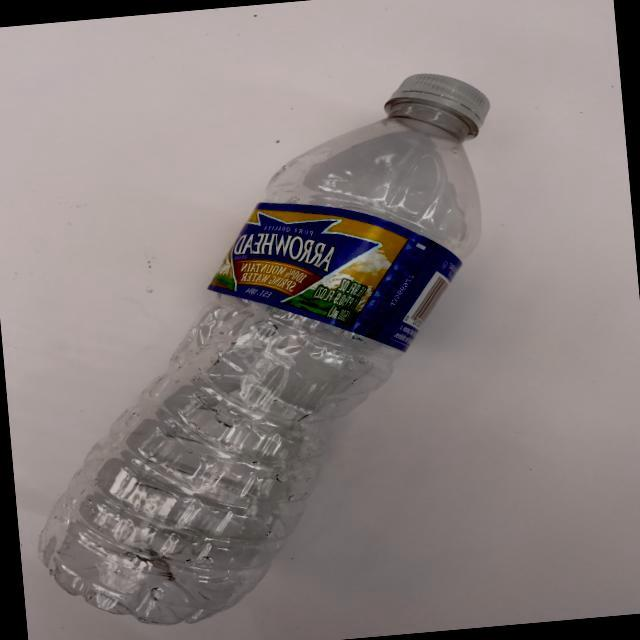plastic: (0, 48, 583, 640)
